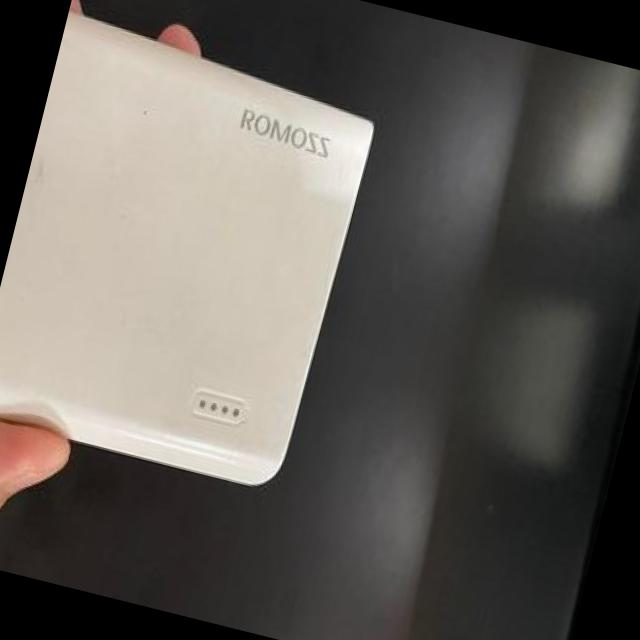portable-charger: (0, 13, 388, 508)
